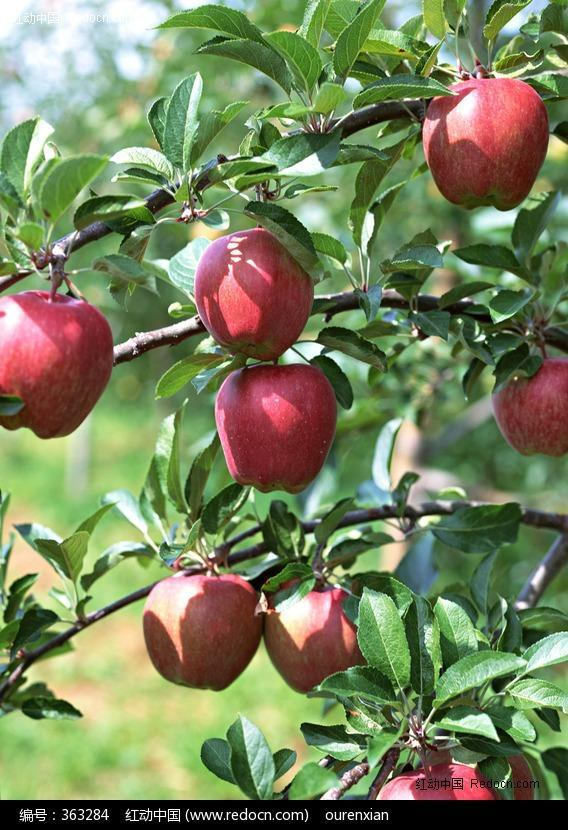apple: (420, 71, 546, 213), (1, 289, 116, 438), (211, 364, 339, 493), (260, 572, 385, 694), (193, 229, 312, 357), (140, 573, 262, 693), (261, 582, 364, 694), (488, 349, 566, 469)
